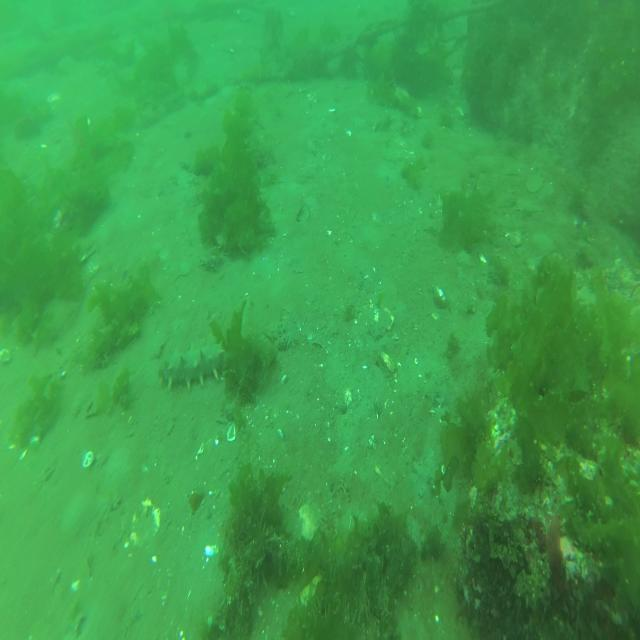holothurian: (158, 340, 226, 393)
scallop: (130, 498, 161, 548), (394, 84, 423, 117), (300, 504, 323, 540), (366, 311, 394, 338), (14, 119, 43, 140), (526, 174, 545, 195), (1, 349, 11, 364)
